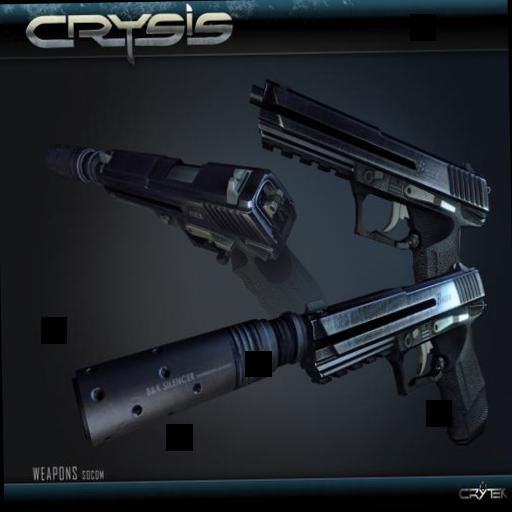Handgun: (246, 70, 486, 289), (100, 144, 330, 324), (302, 260, 493, 445)
